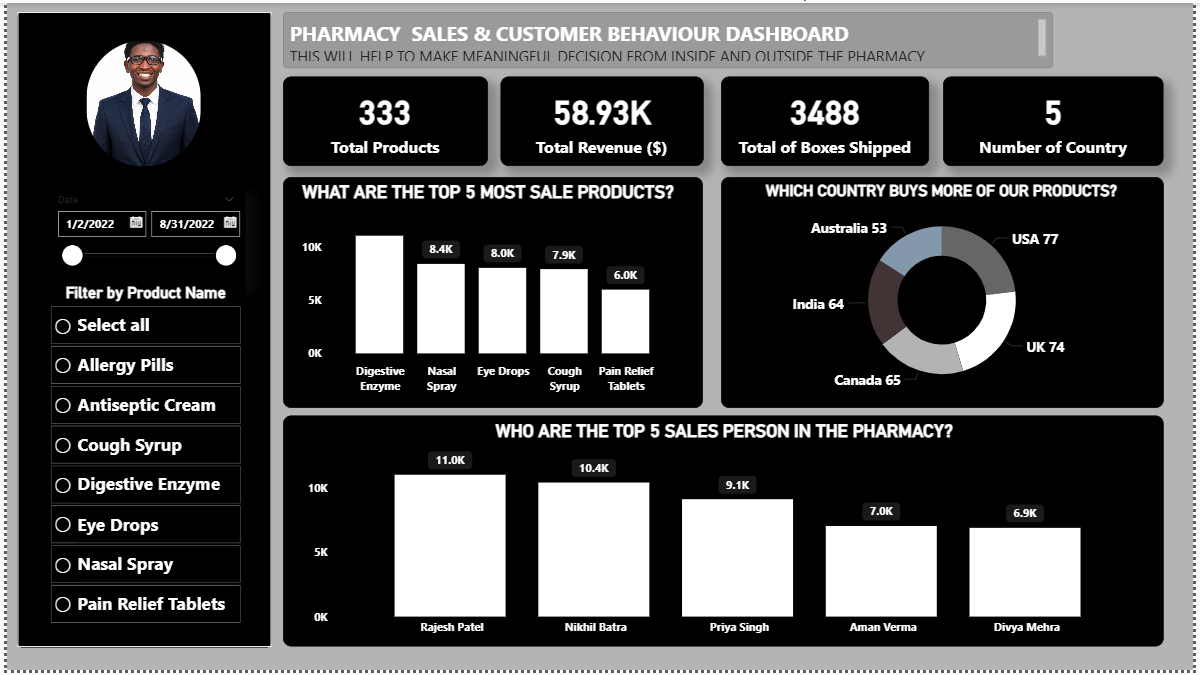

The page's visual inventory and layout, read from the dashboard file:
{"tool":"powerbi","page":{"name":"Page 1","canvas":[1280,720],"ordinal":0},"visuals":[{"type":"shape","box":[298.6,446,950.6,249.5],"z":0},{"type":"shape","box":[771,187.1,478.1,249.5],"z":1000},{"type":"shape","box":[298.6,187.1,453.5,249.5],"z":2000},{"type":"shape","box":[11.3,9.4,274,686],"z":3000},{"type":"card","fields":{"Values":["CountNonNull(pharmacy_otc_sales_data.ProductName)"]},"box":[298.6,79,221.1,96.4],"z":4000,"group":"g1"},{"type":"clusteredColumnChart","title":"WHAT ARE THE TOP 5 MOST SALE PRODUCTS?","fields":{"Category":["pharmacy_otc_sales_data.ProductName"],"Y":["Sum(pharmacy_otc_sales_data.Amount ($))"]},"box":[312.5,192.7,412.9,238],"z":4000},{"type":"card","fields":{"Values":["Sum(pharmacy_otc_sales_data.Amount ($))"]},"box":[532.9,79,219.2,96.4],"z":5000,"group":"g1"},{"type":"clusteredColumnChart","title":"WHO ARE THE TOP 5 SALES PERSON IN THE PHARMACY?","fields":{"Category":["pharmacy_otc_sales_data.Sales Person"],"Y":["Sum(pharmacy_otc_sales_data.Amount ($))"]},"box":[319.4,449.8,910.9,241.9],"z":5000},{"type":"card","fields":{"Values":["Sum(pharmacy_otc_sales_data.Boxes Shipped)"]},"box":[771,79,224.9,96.4],"z":6000,"group":"g1"},{"type":"donutChart","title":"WHICH COUNTRY BUYS MORE OF OUR PRODUCTS?","fields":{"Category":["pharmacy_otc_sales_data.Country"],"Y":["CountNonNull(pharmacy_otc_sales_data.ProductName)"]},"box":[793.7,192.8,430.9,236.2],"z":6000},{"type":"card","fields":{"Values":["Count(pharmacy_otc_sales_data.Country)"]},"box":[1011,79,238.1,96.4],"z":7000,"group":"g1"},{"type":"slicer","fields":{"Values":["pharmacy_otc_sales_data.Date"]},"box":[41.6,200.3,215.4,102],"z":7000},{"type":"listSlicer","title":"Filter by Product Name","fields":{"Values":["pharmacy_otc_sales_data.ProductName"]},"box":[41.6,302.4,215.4,376.1],"z":8000},{"type":"textbox","box":[298.6,10,831.5,60.5],"z":9000},{"type":"group","id":"g1","title":"Group 1","box":[298.6,79,950.6,96.4],"z":10000},{"type":"image","box":[85.2,39.7,123,136.3],"z":11000}]}

Visuals, with their boxes in screenshot pixels (x1, y1, x2, y2), scaled from the page's 1280x720 canvas onto the 1200x675 screenshot:
shape: (x1=280, y1=418, x2=1171, y2=652)
shape: (x1=723, y1=175, x2=1171, y2=409)
shape: (x1=280, y1=175, x2=705, y2=409)
shape: (x1=11, y1=9, x2=267, y2=652)
card - CountNonNull(pharmacy_otc_sales_data.ProductName): (x1=280, y1=74, x2=487, y2=164)
"WHAT ARE THE TOP 5 MOST SALE PRODUCTS?" clusteredColumnChart: (x1=293, y1=181, x2=680, y2=404)
card - Sum(pharmacy_otc_sales_data.Amount ($)): (x1=500, y1=74, x2=705, y2=164)
"WHO ARE THE TOP 5 SALES PERSON IN THE PHARMACY?" clusteredColumnChart: (x1=299, y1=422, x2=1153, y2=648)
card - Sum(pharmacy_otc_sales_data.Boxes Shipped): (x1=723, y1=74, x2=934, y2=164)
"WHICH COUNTRY BUYS MORE OF OUR PRODUCTS?" donutChart: (x1=744, y1=181, x2=1148, y2=402)
card - Count(pharmacy_otc_sales_data.Country): (x1=948, y1=74, x2=1171, y2=164)
slicer - pharmacy_otc_sales_data.Date: (x1=39, y1=188, x2=241, y2=283)
"Filter by Product Name" listSlicer: (x1=39, y1=284, x2=241, y2=636)
textbox: (x1=280, y1=9, x2=1059, y2=66)
"Group 1" group: (x1=280, y1=74, x2=1171, y2=164)
image: (x1=80, y1=37, x2=195, y2=165)
